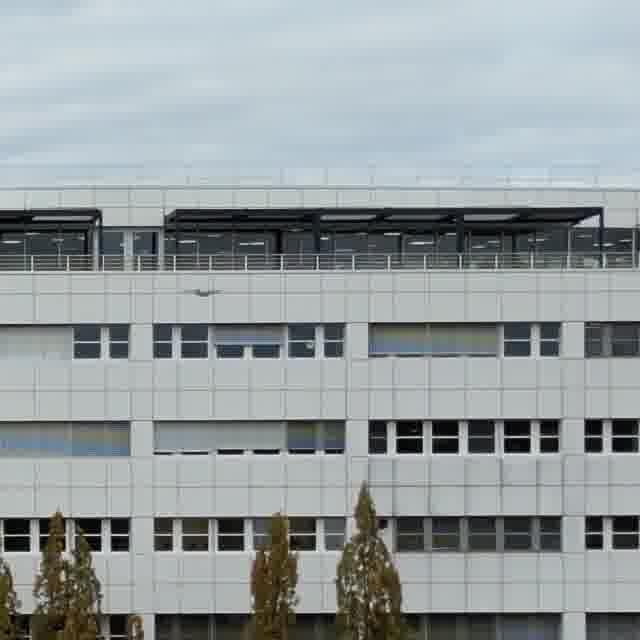Drohne: (182, 289, 222, 297)
